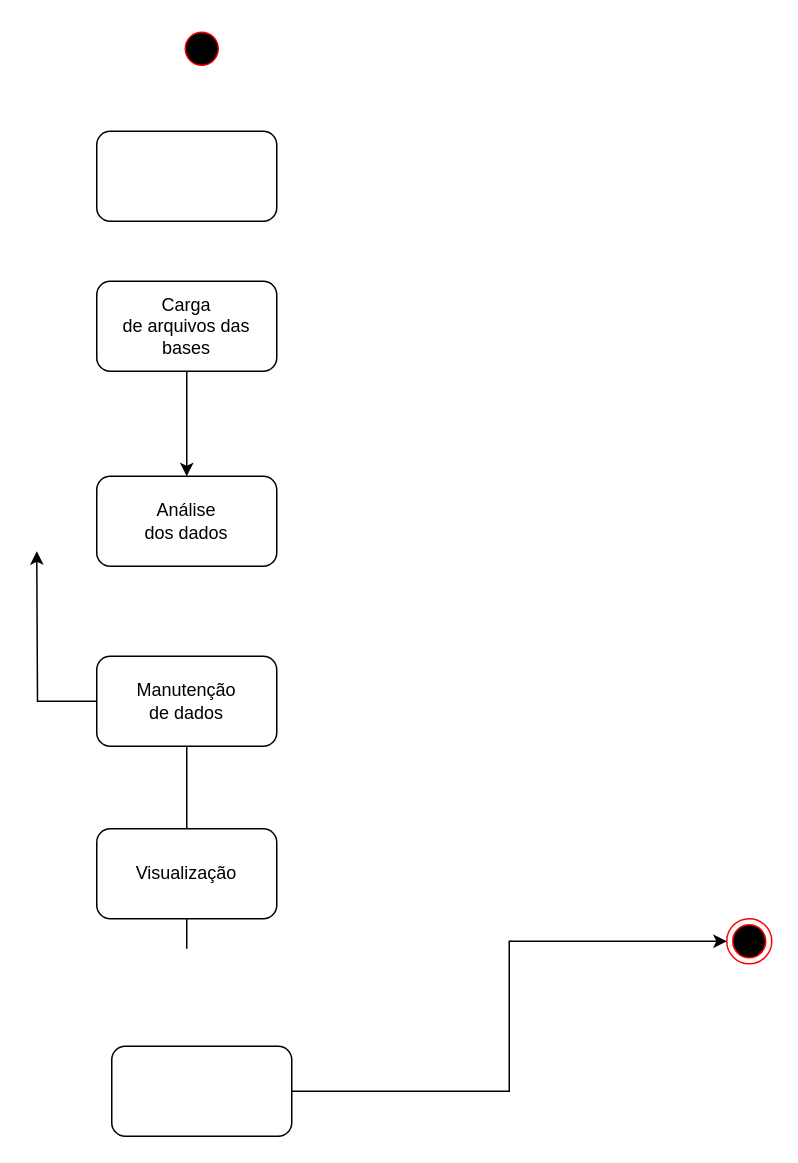
The diagram is 798 pixels wide and 1163 high, and some of its shapes have lost their labels. Here are the shapes that lost their labels. From the top down, the centre of each, then its label:
At (x=186, y=175): "pesquisa em bases indexadas".
At (x=201, y=1090): "Gera Arquivo de controle".
